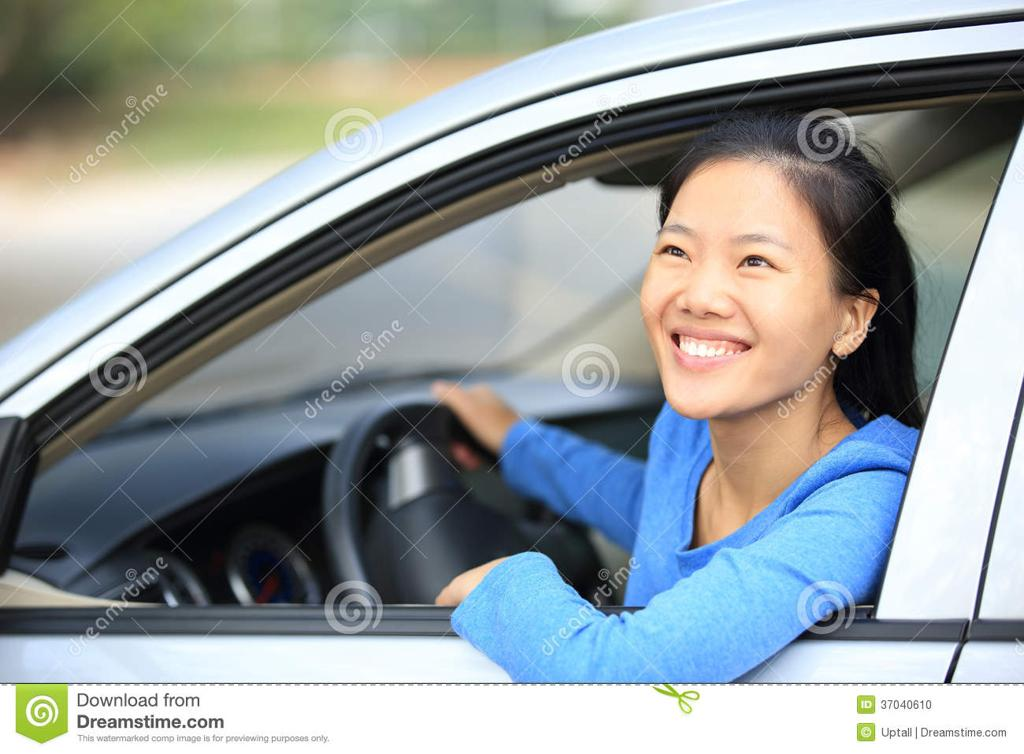face: (644, 162, 836, 414)
